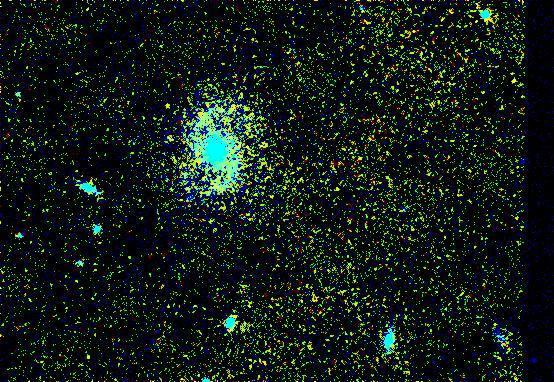star: (155, 124, 185, 154)
